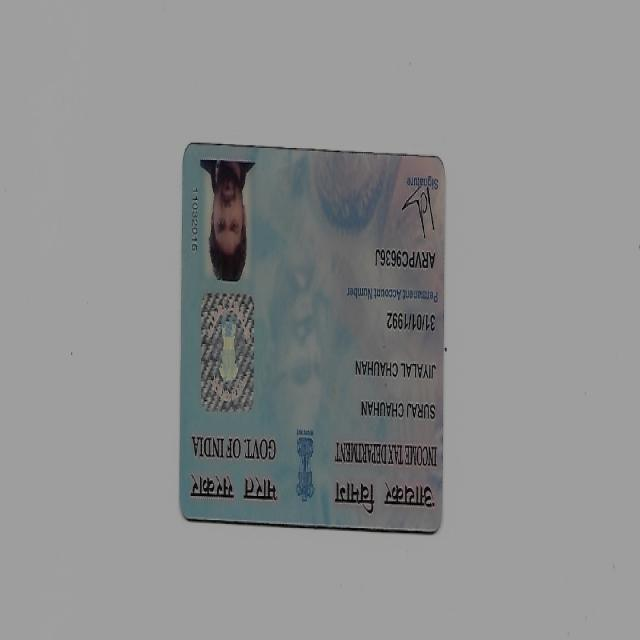pan_card: (178, 145, 444, 529)
